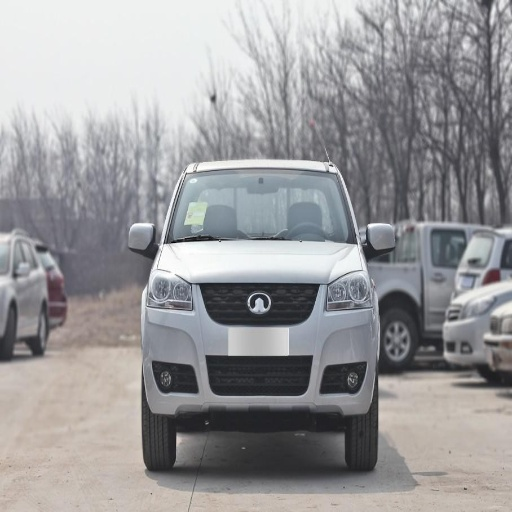front_bumper: (144, 282, 374, 416)
front_right_light: (147, 269, 192, 310)
hood: (162, 242, 359, 282)
